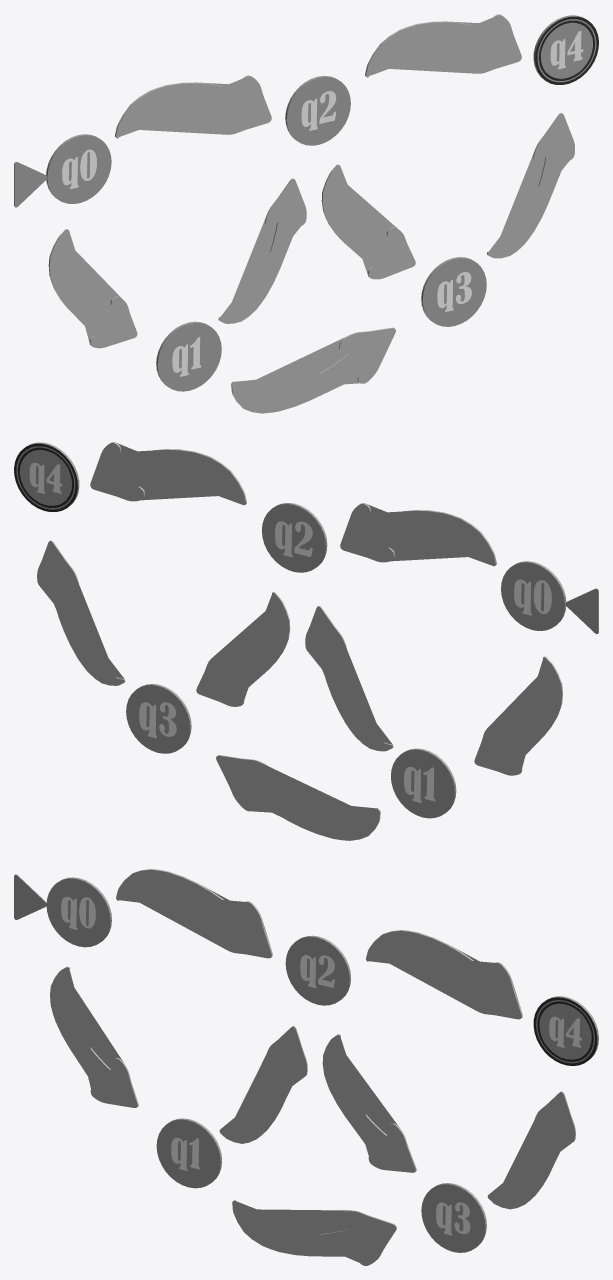
File: automatas_full.fbx
3 renders of one model, top to bottom at view 1: azimuth 30°, elevation 25°; view 2: azimuth 150°, elevation 25°; view 3: azimuth 330°, elevation 25°, orthographic.
Visible parts, largest first — view 1: transicion_q0_q2, transicion_q2_q4, transicion_q1_q3, transicion_q0_q1, transicion_q2_q3, transicion_q1_q2, transicion_q3_q4, q0_inicio_inactivo, q1_inactivo, q3_inactivo, q4_aceptacion_inactivo, q2_inactivo; view 2: transicion_q0_q2, transicion_q2_q4, transicion_q1_q3, transicion_q0_q1, transicion_q2_q3, transicion_q1_q2, transicion_q3_q4, q0_inicio_inactivo, q4_aceptacion_inactivo, q3_inactivo, q1_inactivo, q2_inactivo; view 3: transicion_q2_q4, transicion_q0_q2, transicion_q1_q3, transicion_q0_q1, transicion_q2_q3, transicion_q3_q4, transicion_q1_q2, q0_inicio_inactivo, q3_inactivo, q2_inactivo, q4_aceptacion_inactivo, q1_inactivo.
Part boxes in pixels (bbox=[...]): transicion_q0_q2: bbox=[115, 75, 271, 138]; transicion_q2_q4: bbox=[365, 14, 521, 77]; transicion_q1_q3: bbox=[231, 327, 395, 413]; transicion_q0_q1: bbox=[48, 229, 137, 348]; transicion_q2_q3: bbox=[321, 164, 415, 279]; transicion_q1_q2: bbox=[218, 178, 306, 323]; transicion_q3_q4: bbox=[487, 113, 574, 258]; q0_inicio_inactivo: bbox=[14, 134, 111, 207]; q1_inactivo: bbox=[156, 321, 221, 391]; q3_inactivo: bbox=[421, 257, 486, 326]; q4_aceptacion_inactivo: bbox=[533, 15, 598, 84]; q2_inactivo: bbox=[285, 75, 350, 145]; transicion_q0_q2: bbox=[340, 503, 496, 566]; transicion_q2_q4: bbox=[90, 442, 246, 505]; transicion_q1_q3: bbox=[216, 755, 380, 840]; transicion_q0_q1: bbox=[474, 656, 562, 775]; transicion_q2_q3: bbox=[196, 592, 290, 706]; transicion_q1_q2: bbox=[305, 606, 393, 751]; transicion_q3_q4: bbox=[37, 540, 125, 685]; q0_inicio_inactivo: bbox=[501, 561, 598, 633]; q4_aceptacion_inactivo: bbox=[14, 442, 79, 512]; q3_inactivo: bbox=[126, 684, 191, 753]; q1_inactivo: bbox=[391, 748, 456, 818]; q2_inactivo: bbox=[262, 503, 327, 572]; transicion_q2_q4: bbox=[366, 930, 522, 1019]; transicion_q0_q2: bbox=[116, 869, 272, 958]; transicion_q1_q3: bbox=[232, 1200, 396, 1265]; transicion_q0_q1: bbox=[50, 966, 138, 1107]; transicion_q2_q3: bbox=[322, 1034, 416, 1172]; transicion_q3_q4: bbox=[487, 1091, 575, 1209]; transicion_q1_q2: bbox=[219, 1026, 307, 1143]; q0_inicio_inactivo: bbox=[14, 874, 111, 947]; q3_inactivo: bbox=[421, 1183, 486, 1252]; q2_inactivo: bbox=[285, 935, 350, 1005]; q4_aceptacion_inactivo: bbox=[533, 996, 598, 1065]; q1_inactivo: bbox=[156, 1118, 221, 1188].
Size of the model in its own units: 2.65 by 1.53 by 0.0131.
